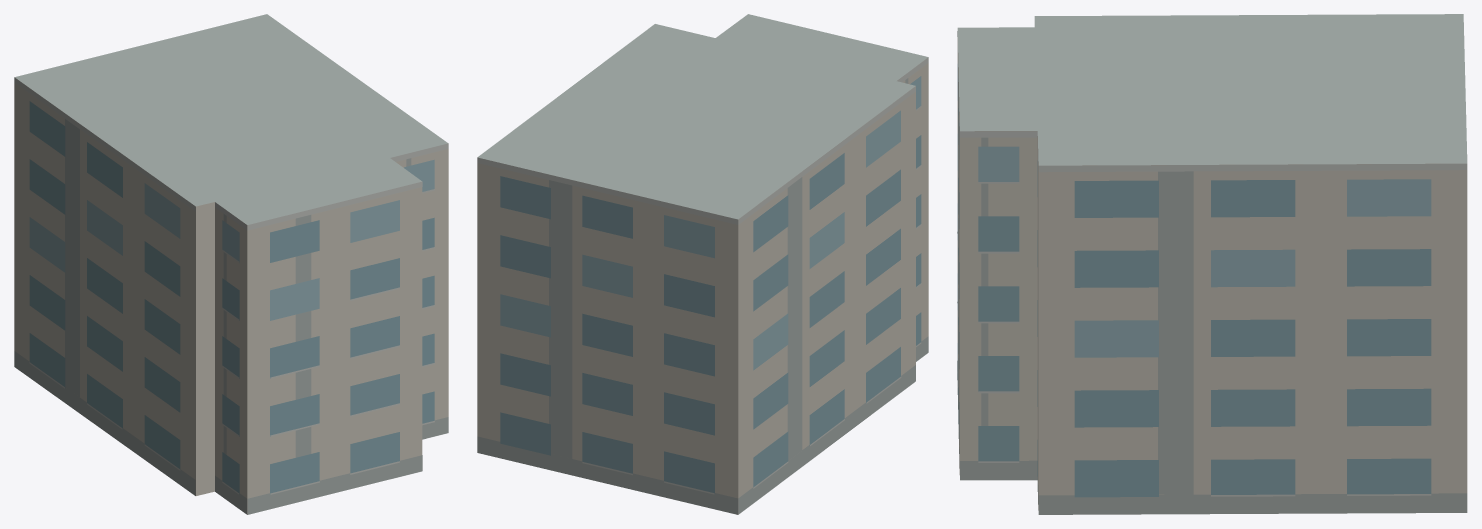
Rendered from survey-upis-32774978.glb.
The picture shows the model from 3 angles, left to right: view 1: azimuth 30°, elevation 25°; view 2: azimuth 150°, elevation 25°; view 3: azimuth 270°, elevation 25°; orthographic projection. The views are drawn at different scales.
Parts seen in each view (by area): view 1: survey-upis-32774978.tmp; view 2: survey-upis-32774978.tmp; view 3: survey-upis-32774978.tmp.
Boxes of the visible parts, x1,y1,x2,y2 form: survey-upis-32774978.tmp: [14, 14, 448, 514]; survey-upis-32774978.tmp: [477, 14, 928, 514]; survey-upis-32774978.tmp: [957, 14, 1467, 514].
Bounding box in the file's own units: 12.16 × 13.05 × 17.28.
